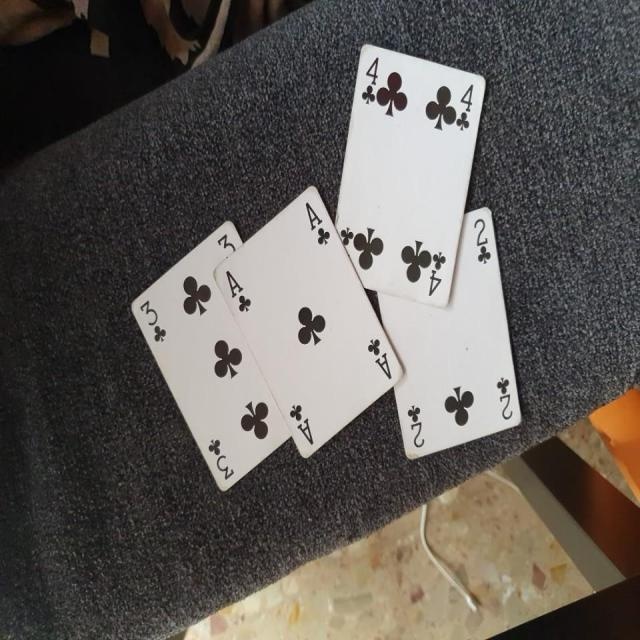2 of clubs: (378, 206, 522, 467)
3 of clubs: (130, 218, 293, 494)
4 of clubs: (333, 41, 487, 309)
ace of clubs: (212, 186, 402, 464)
